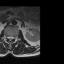CCS_normal: (9, 34, 11, 42)
LFS_normal: (13, 34, 15, 40)
LLS_normal: (11, 34, 13, 41)
RFS_normal: (5, 33, 7, 39)
RLS_normal: (7, 34, 9, 40)
